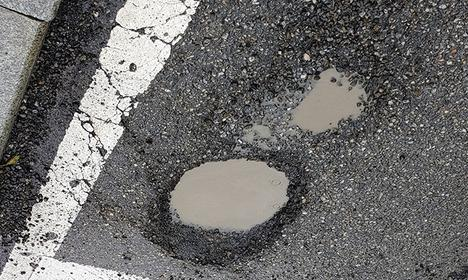pothole: (124, 157, 330, 263), (270, 44, 395, 155)
